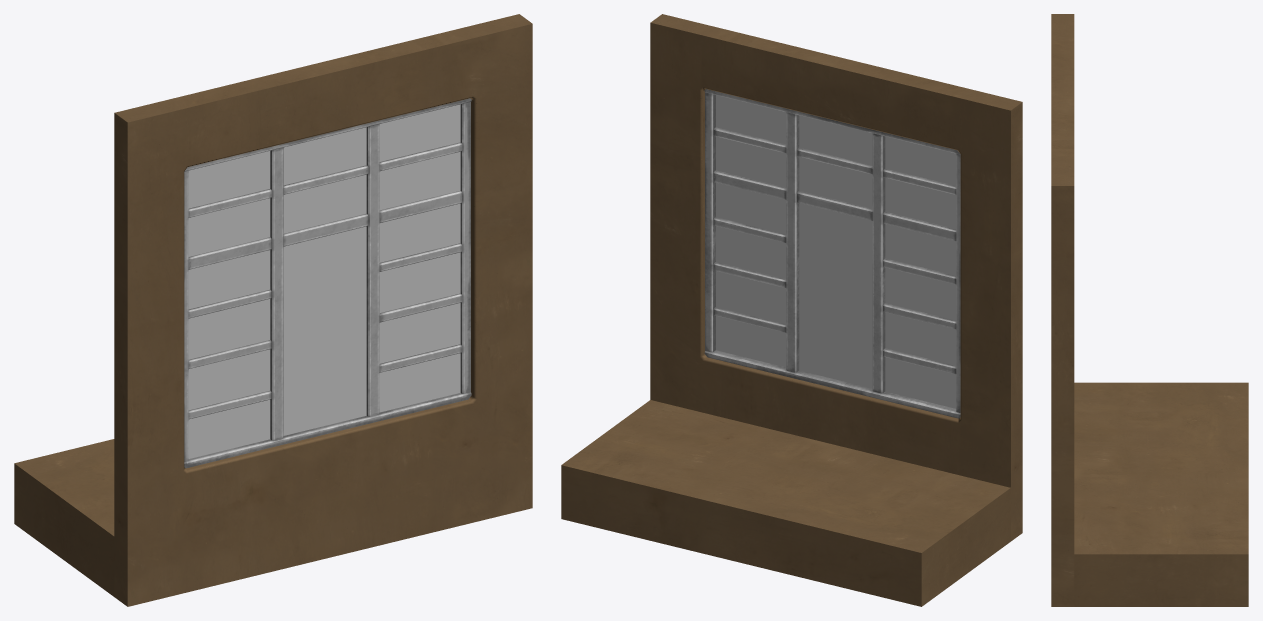
File: SM_Building01GroundWindowR.fbx
3 views of the same model, side by side, from view 1: azimuth 30°, elevation 25°; view 2: azimuth 150°, elevation 25°; view 3: azimuth 270°, elevation 25° (orthographic). The views are drawn at different scales.
Parts seen in each view (by area): view 1: SM_Building01GroundWindowR_LOD0; view 2: SM_Building01GroundWindowR_LOD0; view 3: SM_Building01GroundWindowR_LOD0.
Part boxes in pixels (x1,y1,x2,y2): SM_Building01GroundWindowR_LOD0: [14, 14, 532, 606]; SM_Building01GroundWindowR_LOD0: [561, 14, 1022, 606]; SM_Building01GroundWindowR_LOD0: [1051, 14, 1248, 606].
Bounding box in the file's own units: 350 × 170 × 400.
3 materials, 2 textured.
